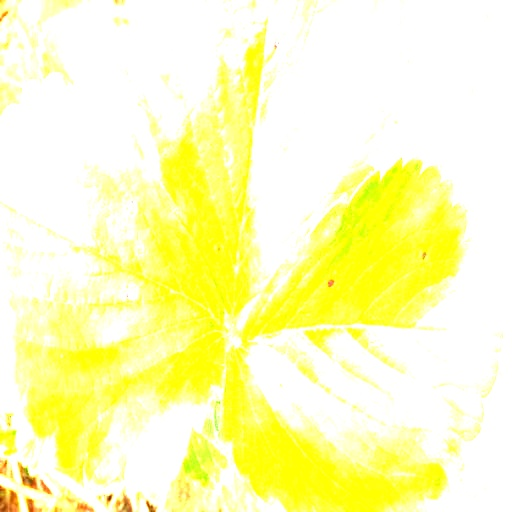Leaf Spot: (212, 153, 509, 511), (0, 61, 230, 496), (125, 0, 411, 322)
